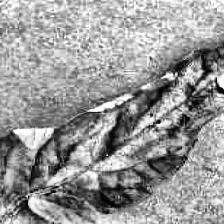leaf mold: (0, 16, 224, 220)
